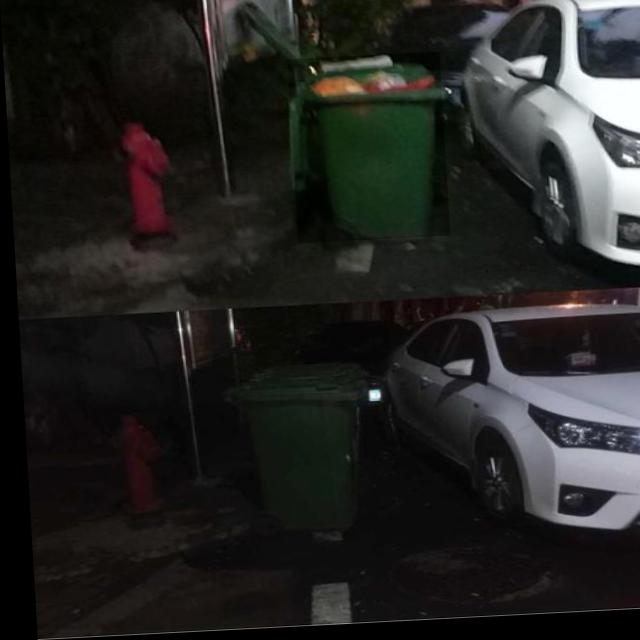garbage_bin: (220, 366, 367, 537)
overflow: (286, 56, 447, 247)
